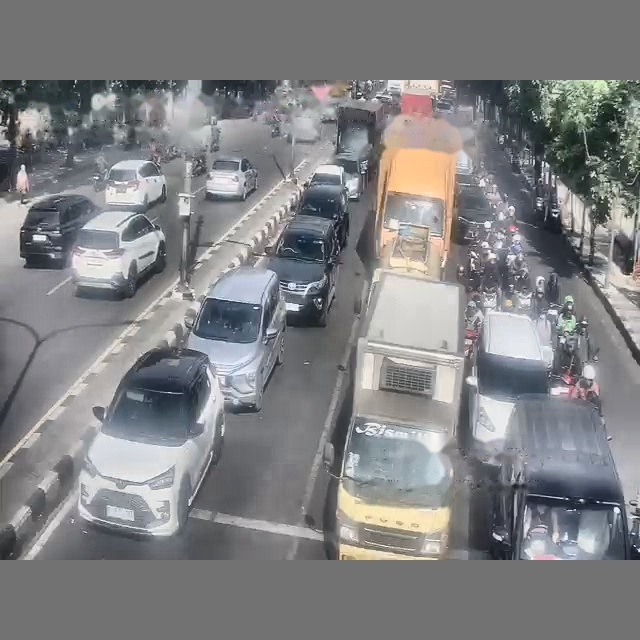Mobil: (78, 348, 224, 536), (490, 394, 636, 559), (185, 266, 285, 411), (466, 311, 549, 467), (264, 215, 339, 326), (72, 210, 165, 296), (20, 194, 100, 265), (296, 183, 349, 250), (105, 160, 166, 210), (205, 156, 257, 200), (455, 186, 494, 242), (334, 153, 367, 200), (285, 115, 320, 143), (307, 164, 346, 189), (320, 103, 336, 122)
Motor: (92, 169, 109, 192)
Truk: (335, 269, 464, 559), (373, 115, 462, 278)
